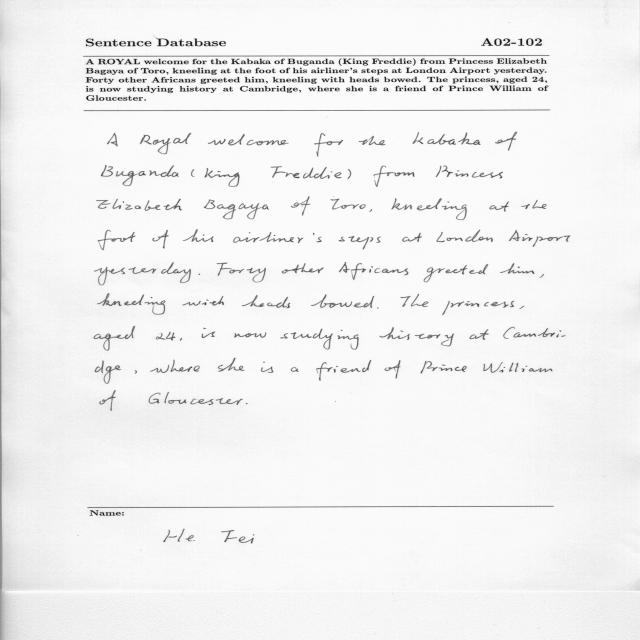word: (95, 263, 191, 286), (391, 198, 467, 220), (101, 165, 179, 186), (281, 329, 359, 350), (98, 293, 166, 315), (379, 327, 454, 346), (204, 200, 269, 220), (339, 262, 408, 280), (149, 392, 243, 405), (317, 360, 372, 381), (424, 264, 488, 282), (97, 198, 182, 211), (140, 133, 191, 154), (509, 230, 570, 247), (94, 326, 135, 351), (442, 301, 514, 315), (217, 263, 266, 283), (233, 232, 322, 243), (208, 134, 289, 146), (271, 166, 342, 179), (413, 132, 481, 145), (311, 294, 374, 308), (436, 166, 503, 179), (374, 166, 415, 187), (98, 230, 136, 250), (484, 362, 553, 373), (314, 133, 343, 157), (503, 327, 566, 338), (436, 230, 493, 242), (205, 168, 240, 187), (150, 360, 200, 373), (242, 295, 290, 308), (95, 360, 121, 384), (421, 361, 467, 373), (339, 236, 381, 249), (282, 263, 324, 274), (183, 296, 224, 306), (495, 132, 517, 150), (331, 199, 366, 210), (291, 197, 311, 216), (500, 263, 534, 274), (183, 230, 214, 242), (401, 294, 429, 307), (218, 358, 244, 372), (100, 390, 116, 411), (152, 230, 169, 249), (384, 360, 401, 379), (359, 136, 386, 146), (521, 200, 547, 209), (489, 201, 509, 212), (469, 329, 489, 340), (234, 332, 266, 338), (403, 233, 423, 242), (156, 332, 175, 341), (107, 133, 118, 147), (261, 362, 273, 373), (202, 328, 215, 338), (291, 367, 299, 372), (348, 169, 351, 179), (191, 169, 194, 177), (540, 274, 544, 278), (520, 306, 524, 309), (369, 209, 372, 212), (135, 370, 137, 374), (180, 338, 182, 341), (198, 273, 200, 275), (377, 308, 379, 309), (246, 403, 248, 404)
